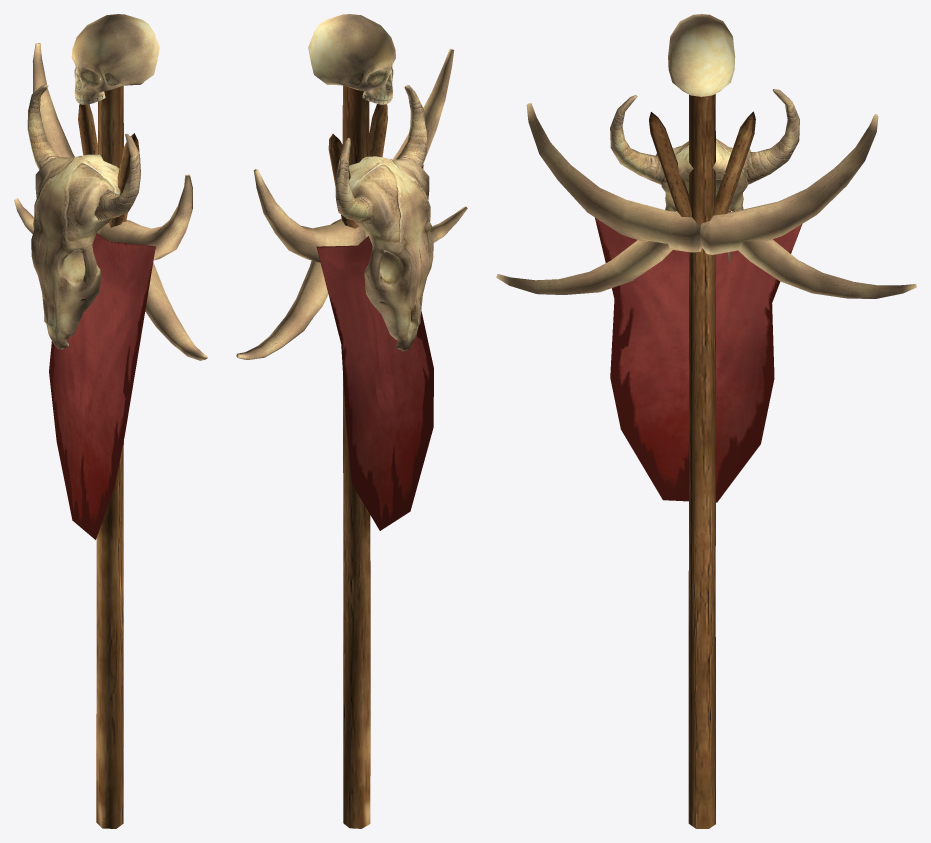
Rendered from flag_02.FBX.
3 renders of one model, left to right at view 1: azimuth 30°, elevation 25°; view 2: azimuth 150°, elevation 25°; view 3: azimuth 270°, elevation 25°, orthographic.
Parts seen in each view (by area): view 1: flag_02; view 2: flag_02; view 3: flag_02.
Part boxes in pixels (x1,y1,x2,y2): flag_02: (14,14,207,828); flag_02: (236,14,467,828); flag_02: (496,14,916,828).
Bounding box in the file's own units: 10.88 × 75.88 × 35.81.
